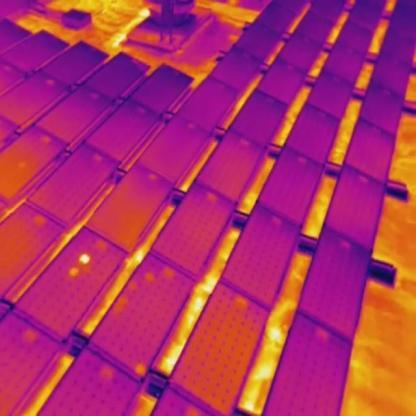anomaly: (79, 252, 90, 267), (67, 265, 79, 278)
